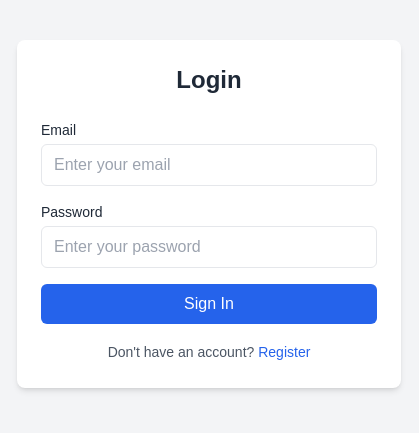
Scenario: LoginForm Component › validates required fields
What coordinates should you click on to do the following:
click the button "Sign In"
I would click on:
 (209, 304)
Its box is [41,284,377,324].
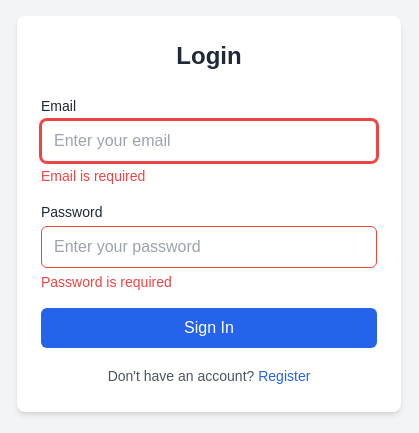
Expected: the text "Email is required" is shown, [41,168,145,184]
Expected: the text "Password is required" is shown, [41,274,172,290]
